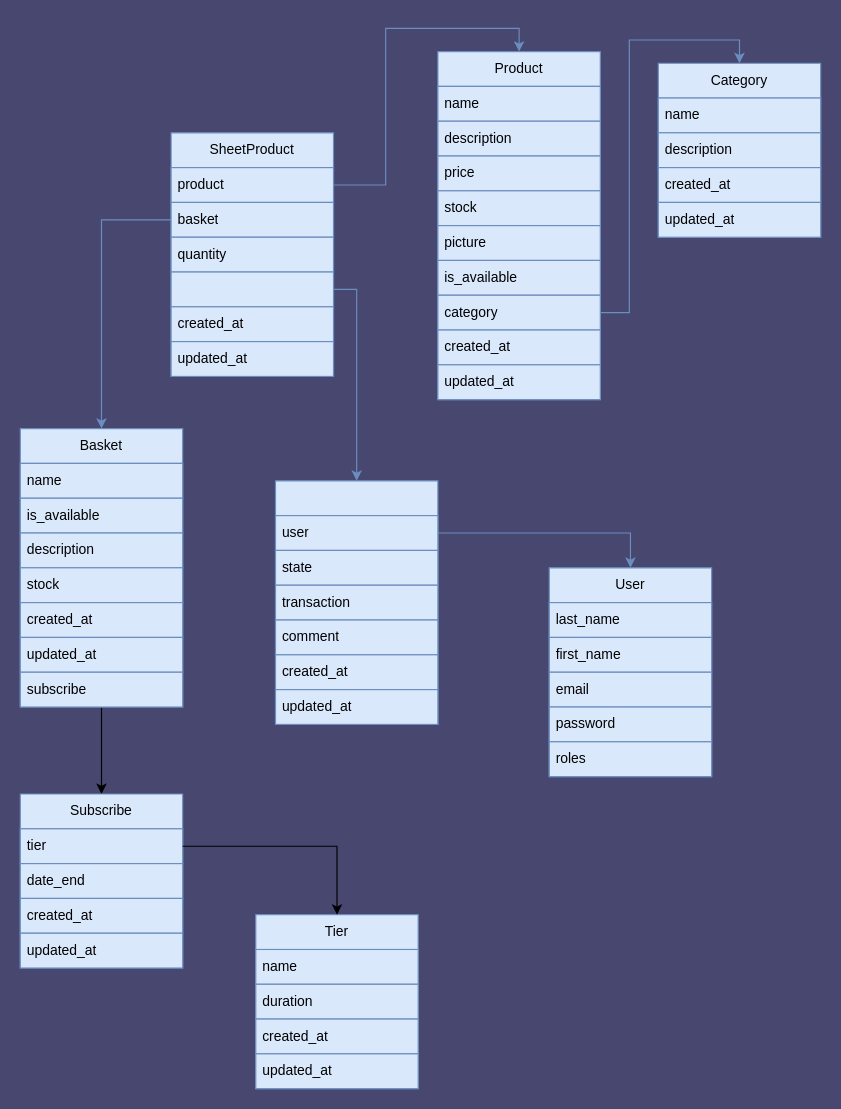
The diagram is 841 pixels wide and 1109 high, and some of its shapes have lost their labels. The shapes that lost their labels are listed below. From the top down, each one's box as (x1, y1, x2, y2) in pixels, then its label:
(170, 271, 334, 307): order
(274, 480, 438, 724): Orders
